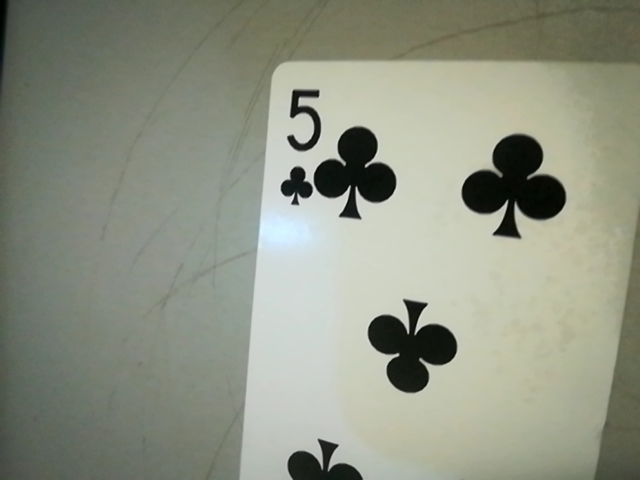mh 5: (267, 80, 324, 211)
